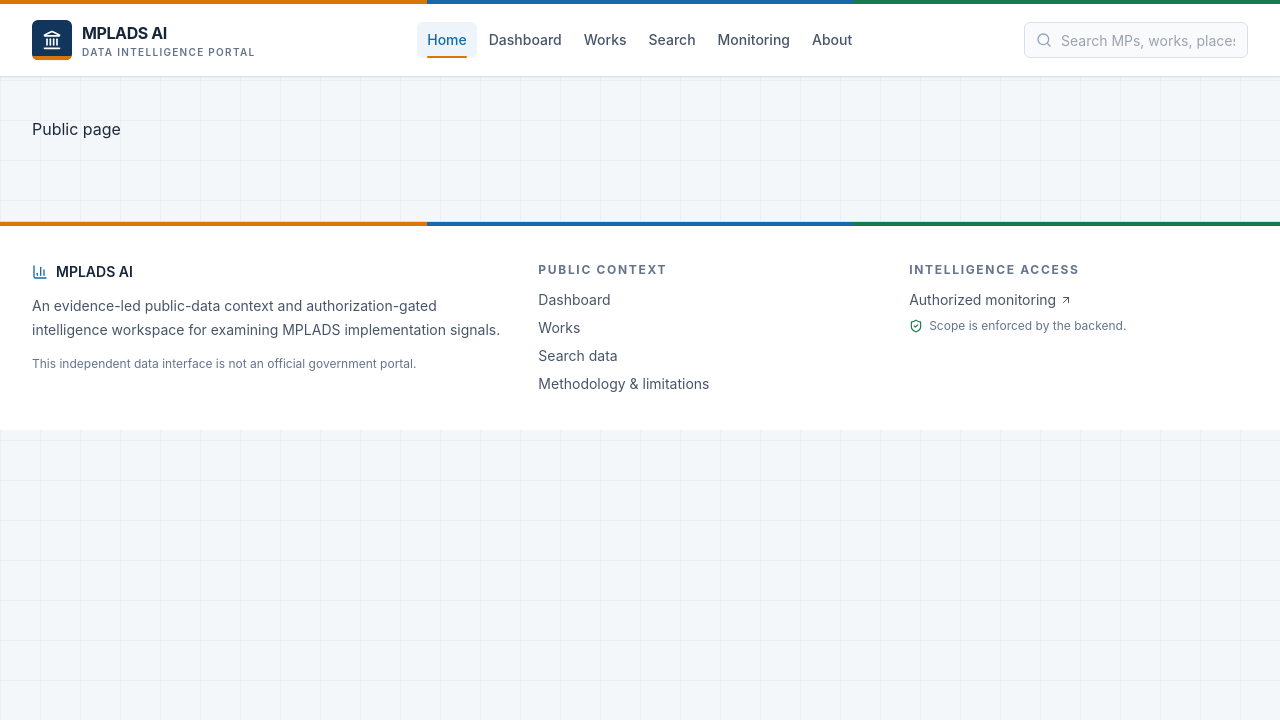
public navigation › contains only the Monitoring entry for the protected experience and links to /monitoring
This screenshot has width=1280, height=720.
expect the link "Home" is shown: met, box [417,22,477,58]
expect the link "Dashboard" next to "Home" is shown: met, box [489,31,562,48]
Click the link "Monitoring". click: (754, 40)
box: [718,31,790,48]
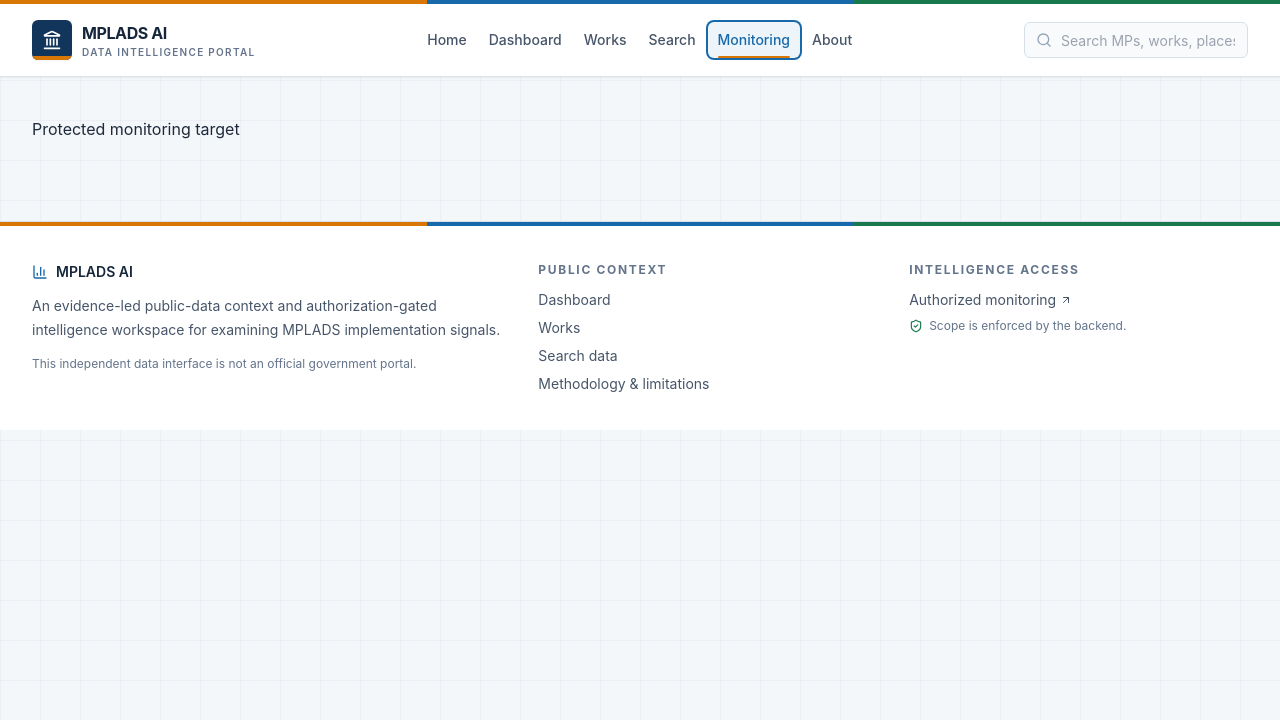
expect the heading "Protected monitoring target" is shown: met, box [32,119,240,139]
